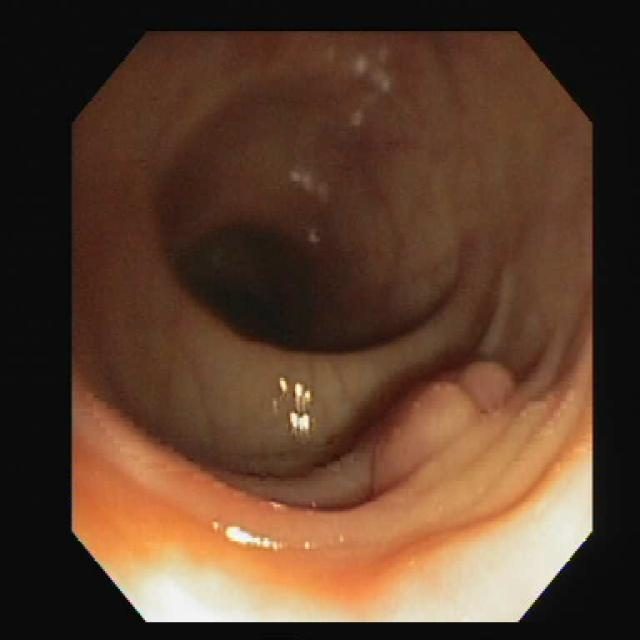tumor: (358, 362, 520, 478)
